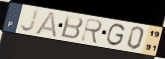0: (126, 26, 146, 52)
A: (33, 10, 58, 39)
B: (59, 14, 85, 41)
G: (105, 23, 127, 48)
J: (19, 8, 40, 33)
R: (79, 17, 104, 46)
